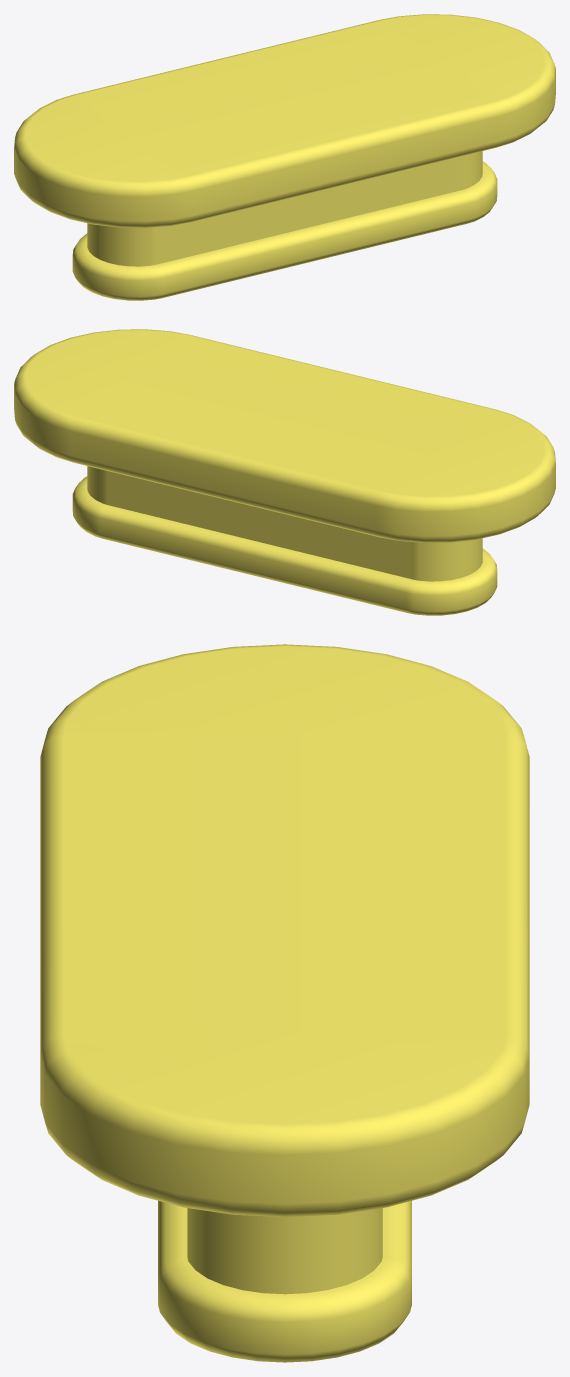
Rendered from Store_12_Shelf_1.glb.
3 views of the same model, one above another, from view 1: azimuth 30°, elevation 25°; view 2: azimuth 150°, elevation 25°; view 3: azimuth 270°, elevation 25° (orthographic). The views are drawn at different scales.
Visible parts, largest first — view 1: Store_12_Shelf_1; view 2: Store_12_Shelf_1; view 3: Store_12_Shelf_1.
Boxes of the visible parts, <box> form: Store_12_Shelf_1: <box>14,14,555,300</box>; Store_12_Shelf_1: <box>14,329,555,615</box>; Store_12_Shelf_1: <box>40,644,529,1362</box>.
Size of the model in its own units: 3 by 0.8037 by 1.25.
1 material, 1 textured.
